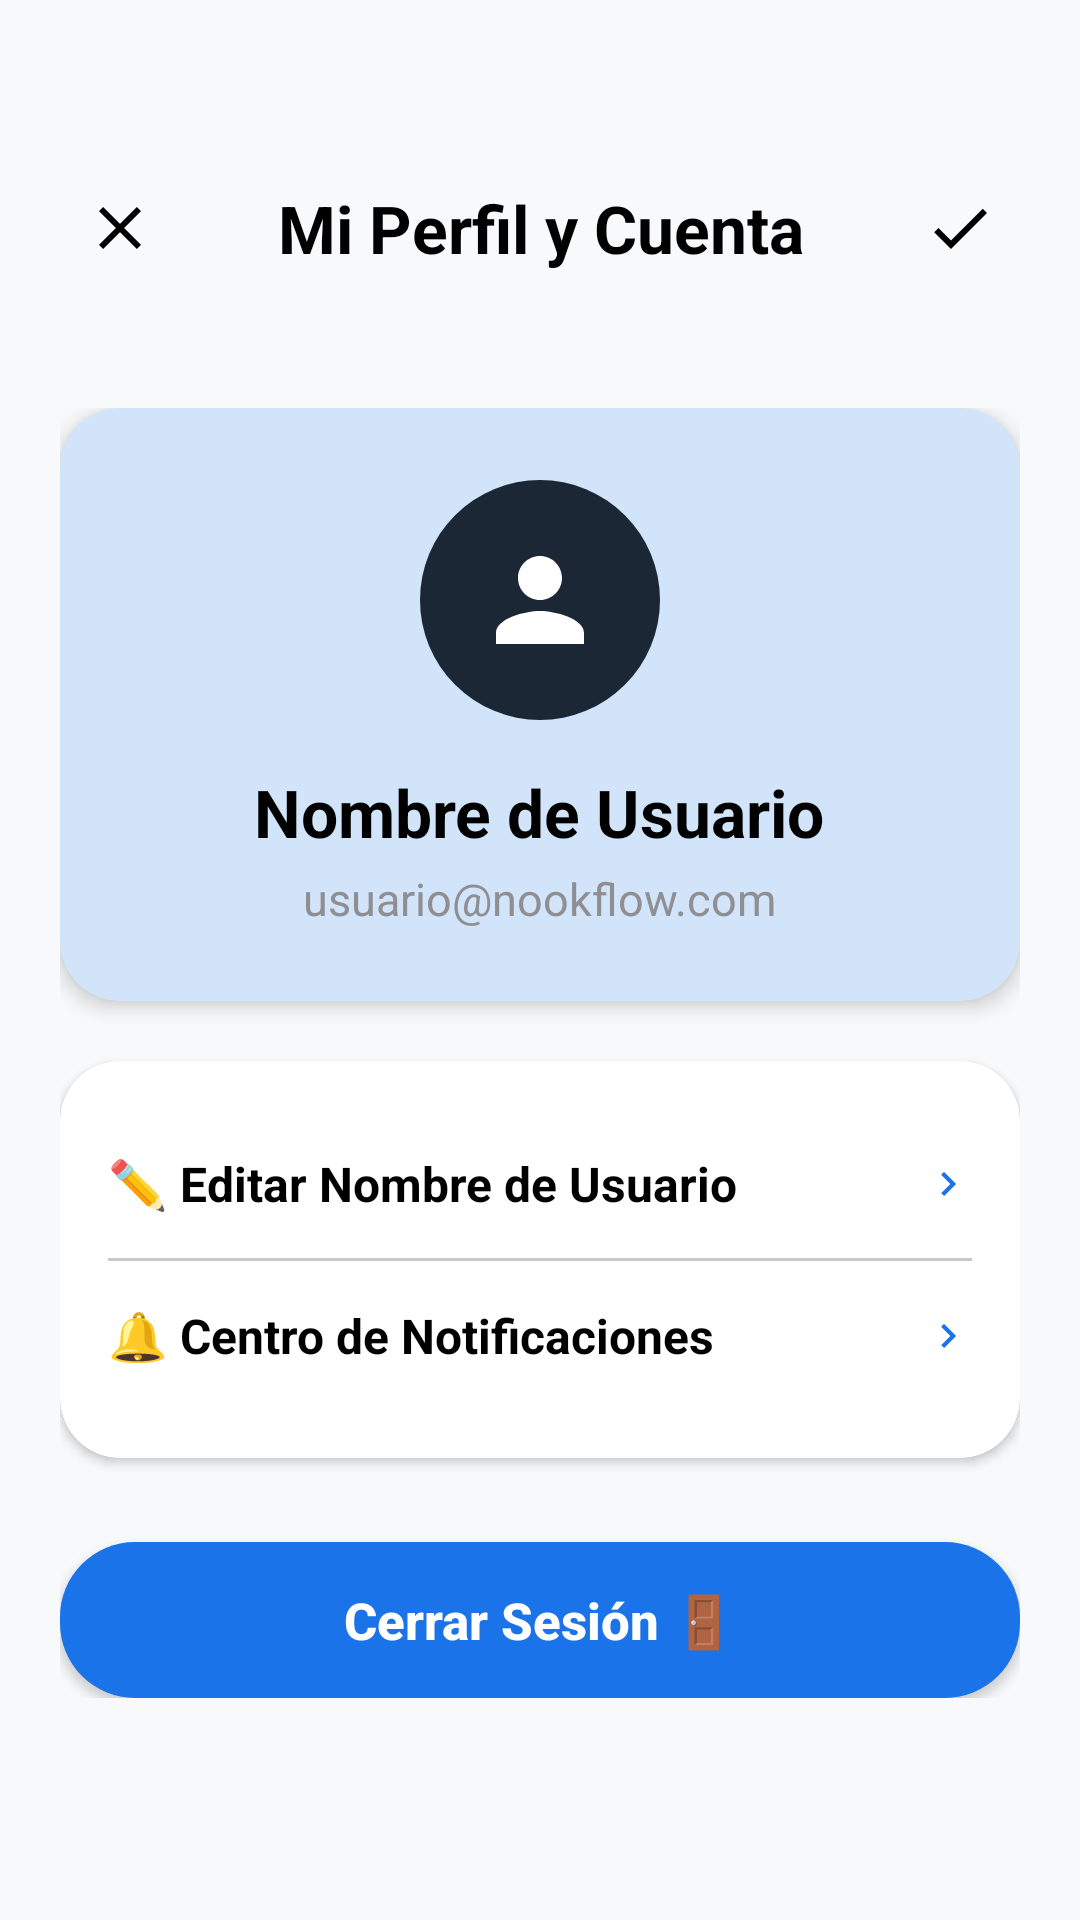

Point at icon controls on the screen. Image size 1080px×1920px, points as [x,y].
check: [960,229]
chevron right: [948,1184], [948,1336]
close: [120,228]
person: [540,600]
